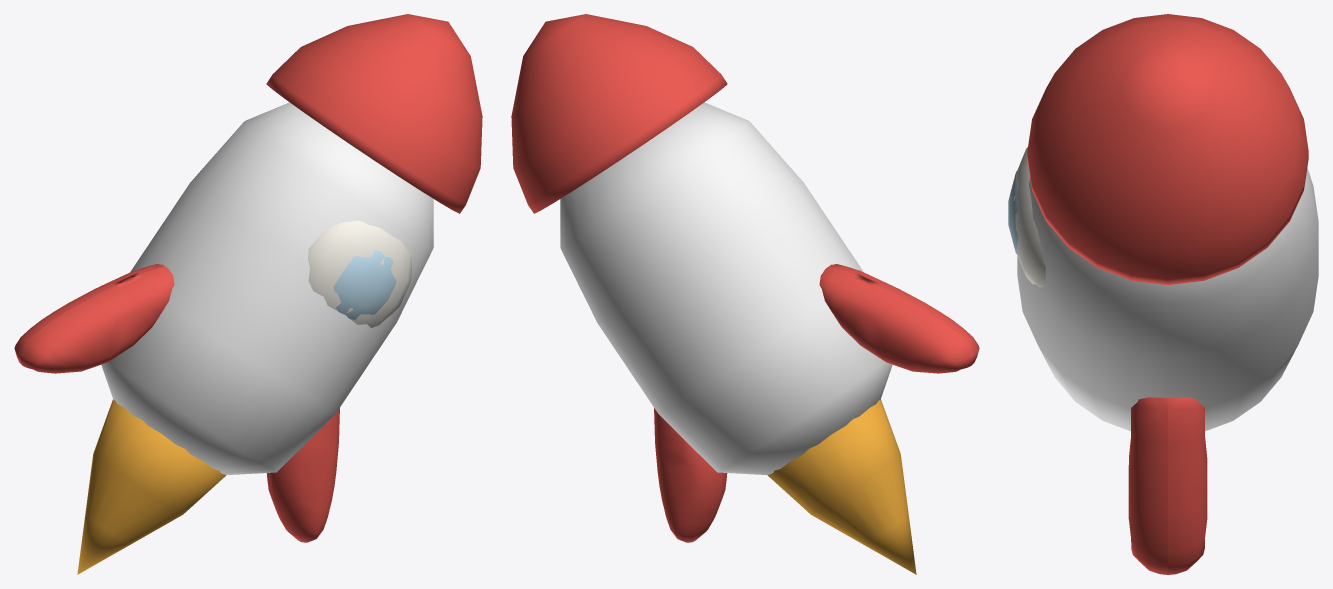
File: git_release.glb
3 views of the same model, side by side, from view 1: azimuth 30°, elevation 25°; view 2: azimuth 150°, elevation 25°; view 3: azimuth 270°, elevation 25° (orthographic). The views are drawn at different scales.
Parts seen in each view (by area): view 1: git_release; view 2: git_release; view 3: git_release.
Boxes of the visible parts, x1=… form: git_release: x1=14, y1=14, x2=482, y2=574; git_release: x1=511, y1=14, x2=979, y2=574; git_release: x1=1008, y1=14, x2=1318, y2=574.
Size of the model in its own units: 0.9557 by 1 by 0.4759.
